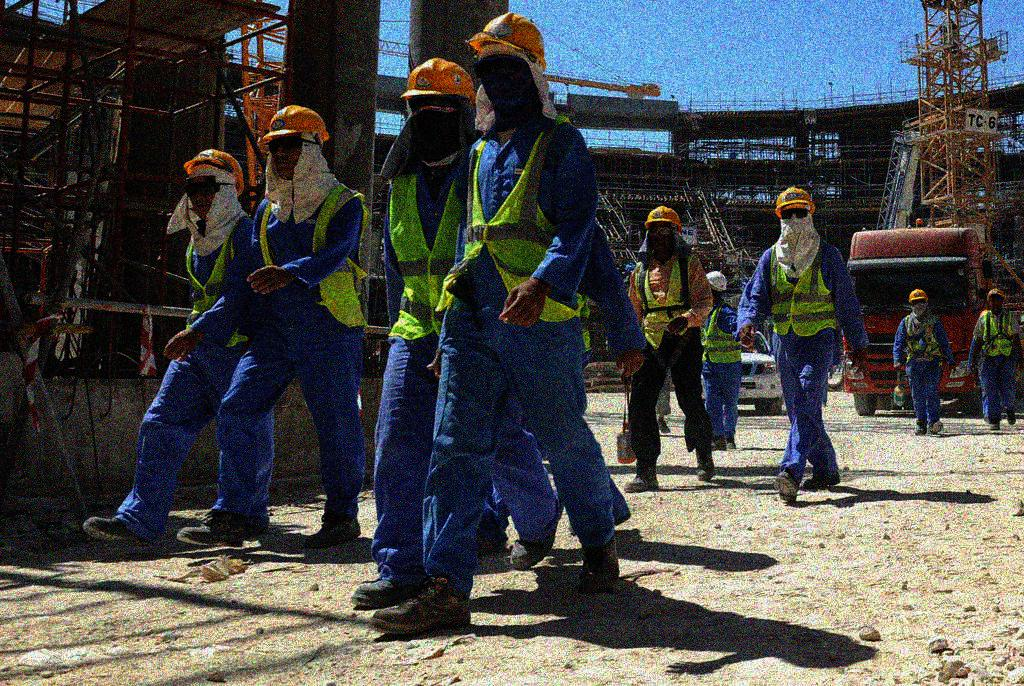helmet: (469, 12, 551, 105), (398, 57, 476, 137), (260, 102, 331, 177), (182, 147, 247, 217), (644, 205, 685, 255), (775, 186, 817, 225), (707, 270, 729, 303), (908, 288, 929, 315), (987, 287, 1005, 311)
